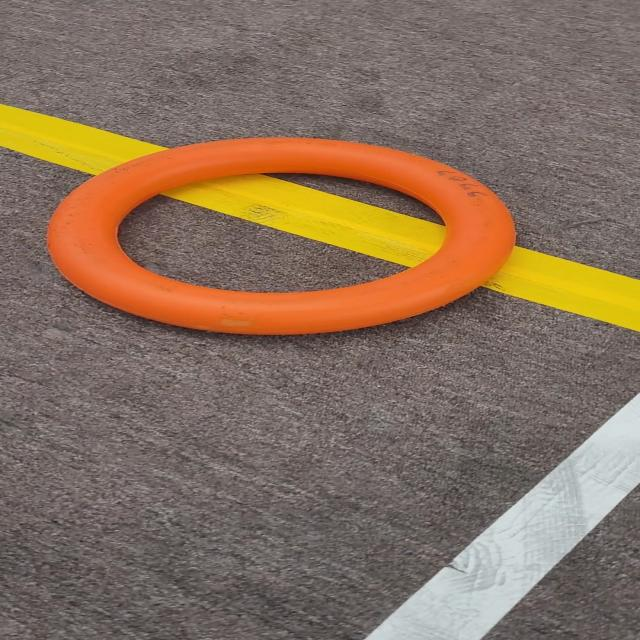note: (44, 131, 547, 353)
